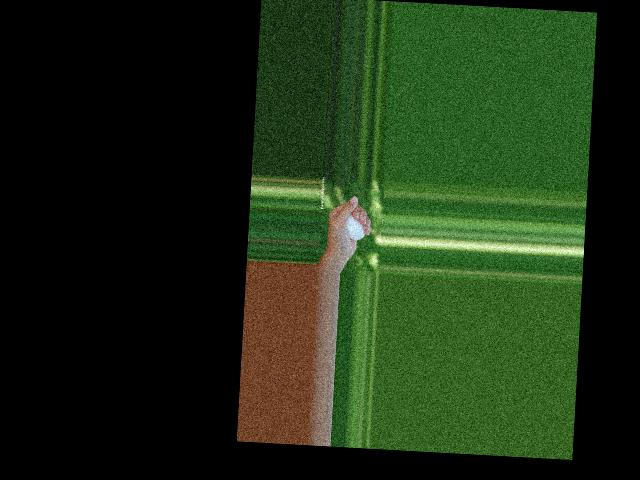egg: (346, 213, 365, 240)
